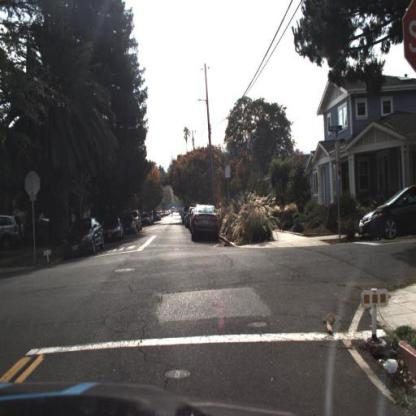car: (355, 180, 416, 245), (358, 185, 416, 242), (62, 218, 104, 258), (191, 202, 222, 242), (2, 216, 26, 247), (103, 214, 124, 241), (121, 213, 137, 236), (133, 209, 144, 234)
